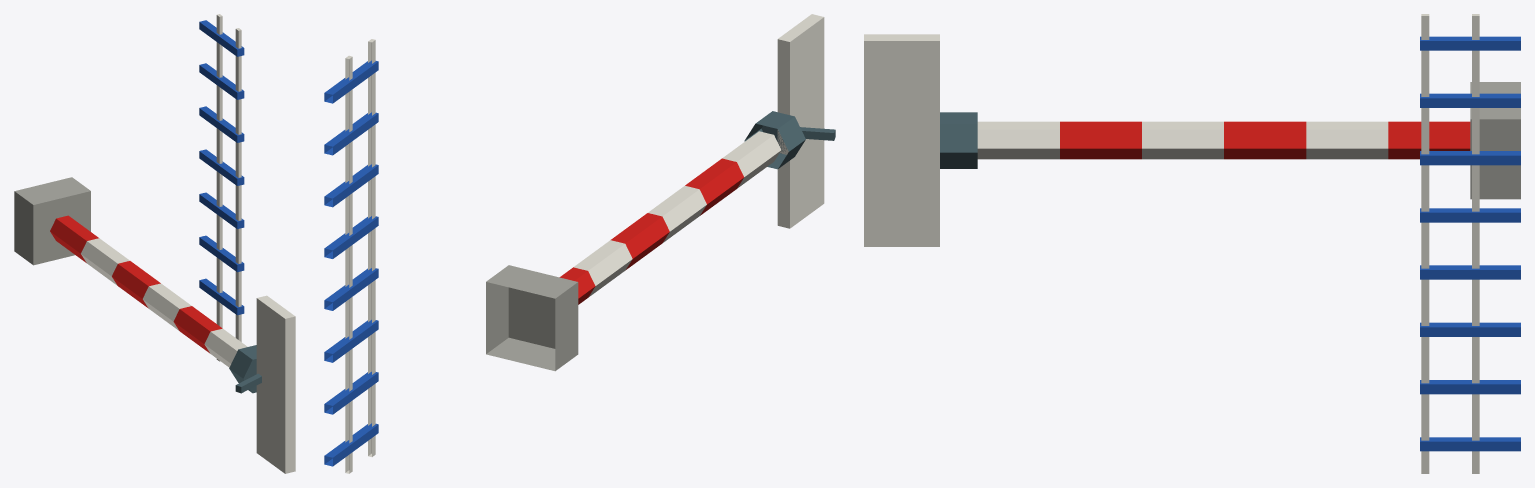
The model's file is frame_3.glb.
3 views of the same model, side by side, from view 1: azimuth 30°, elevation 25°; view 2: azimuth 150°, elevation 25°; view 3: azimuth 270°, elevation 25° (orthographic). The views are drawn at different scales.
Parts seen in each view (by area): view 1: t5_4_g31.003; view 2: t5_4_g31.003; view 3: t5_4_g31.003.
Boxes of the visible parts, x1,y1,x2,y2 form: t5_4_g31.003: (14, 14, 295, 473); t5_4_g31.003: (324, 14, 835, 473); t5_4_g31.003: (864, 14, 1520, 473).
Bounding box in the file's own units: 9.57 × 16 × 20.8.
